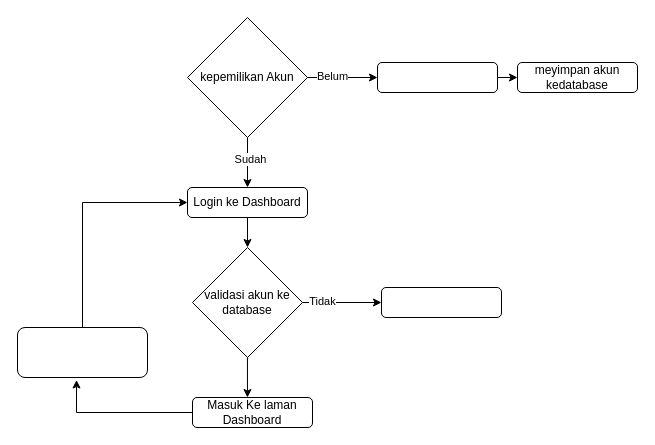
The diagram is 655 pixels wide and 445 high, and some of its shapes have lost their labels. Each missing label, with the box of its shape:
Dalam Waktu 60 menit Masa Berlaku Token Habis, Otomatis Logout: (16, 326, 148, 378)
Registrasi Akun: (376, 62, 498, 92)
Username atau Password Salah: (380, 286, 502, 318)
